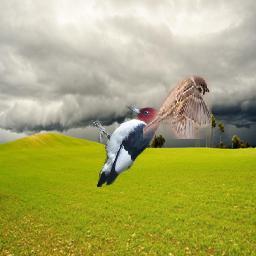Sparrow: (144, 75, 213, 139)
Woodpecker: (89, 105, 161, 187)
